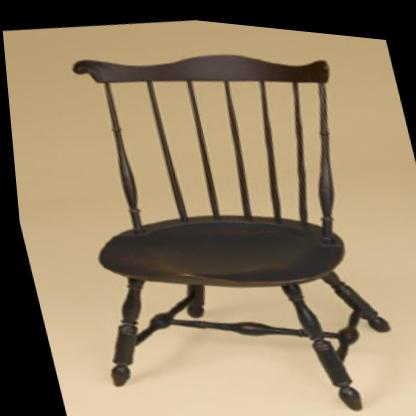Chair: (21, 2, 416, 416)
